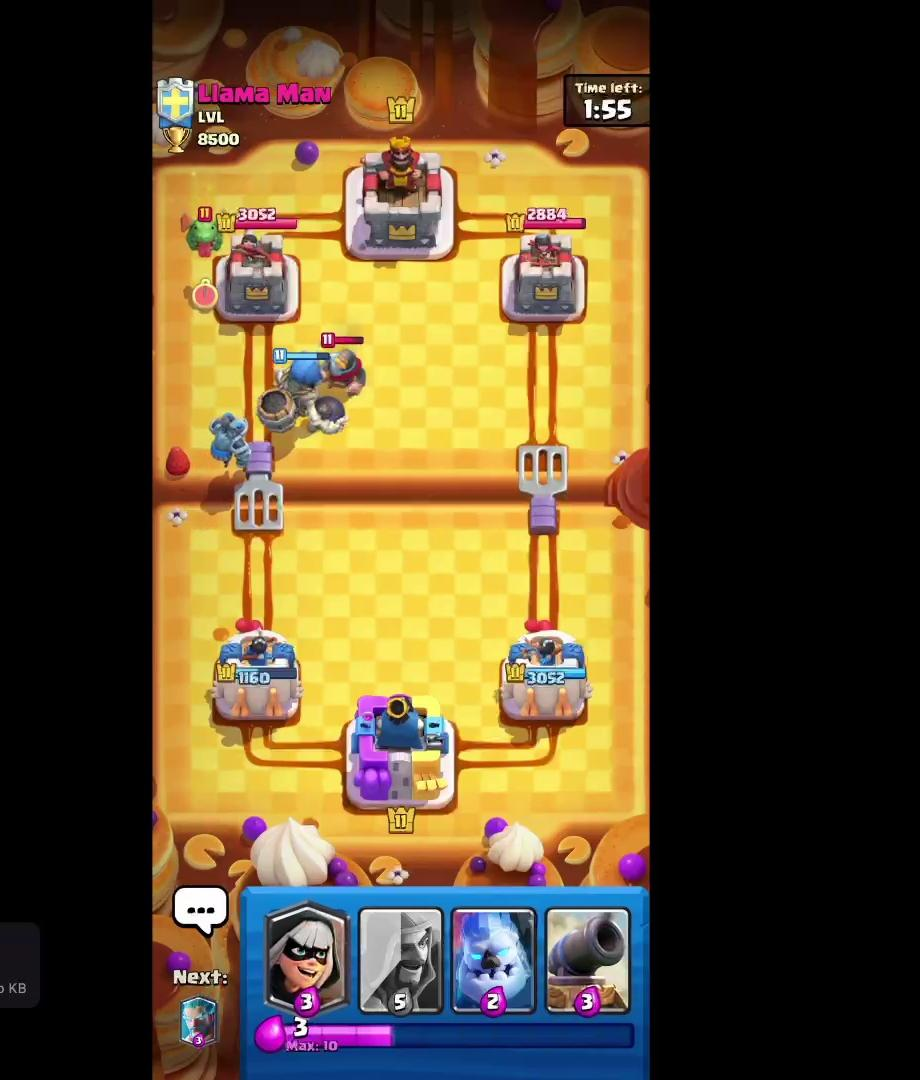Baby Dragon: (177, 205, 234, 258)
Knight: (317, 330, 369, 399)
